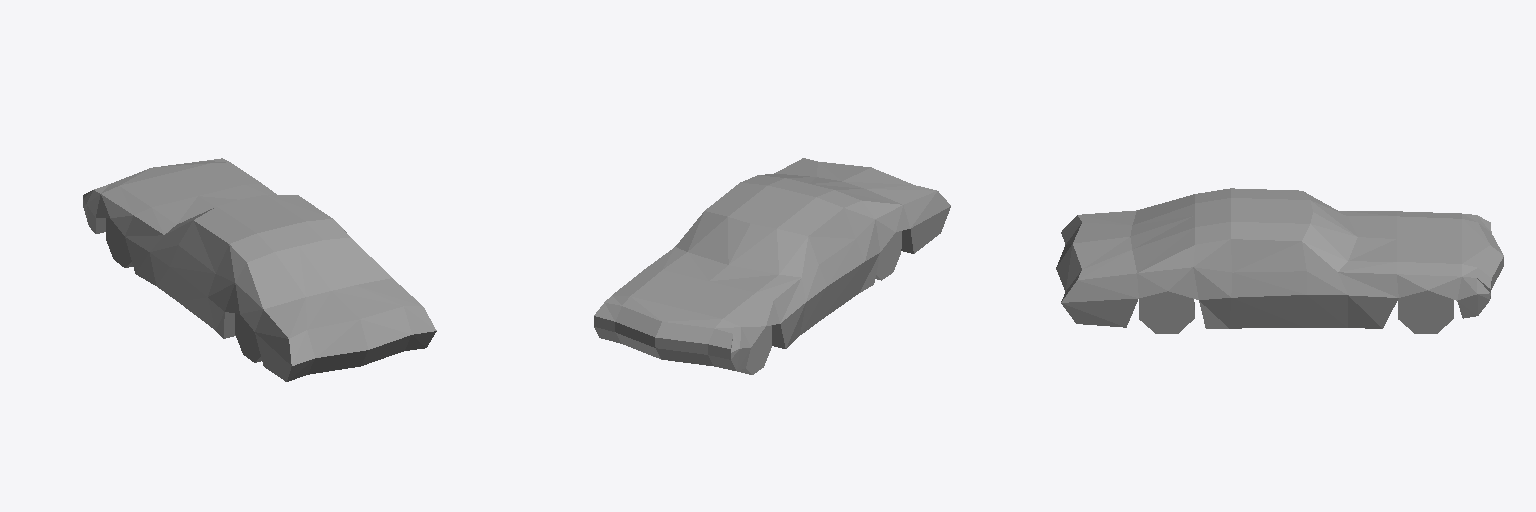
Rendered from car_riviera.obj.
The picture shows the model from 3 angles: view 1: azimuth 30°, elevation 25°; view 2: azimuth 150°, elevation 25°; view 3: azimuth 270°, elevation 25°; orthographic projection.
Visible parts, largest first — view 1: Mesh.001_Plane.001_Plane.002; view 2: Mesh.001_Plane.001_Plane.002; view 3: Mesh.001_Plane.001_Plane.002.
Part boxes in pixels (left/top/right/bottom): Mesh.001_Plane.001_Plane.002: left=83, top=158, right=436, bottom=381; Mesh.001_Plane.001_Plane.002: left=594, top=158, right=950, bottom=374; Mesh.001_Plane.001_Plane.002: left=1056, top=188, right=1503, bottom=333.
Size of the model in its own units: 1.99 by 1.2 by 5.25.